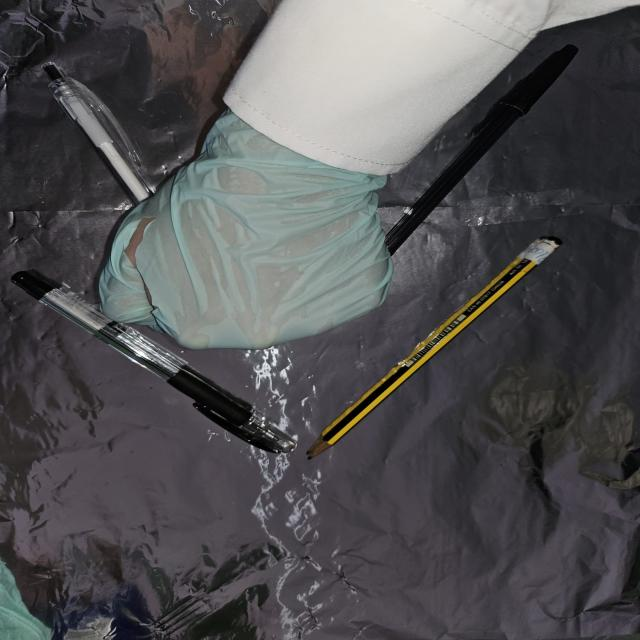gloves_damaged: (100, 109, 396, 350)
